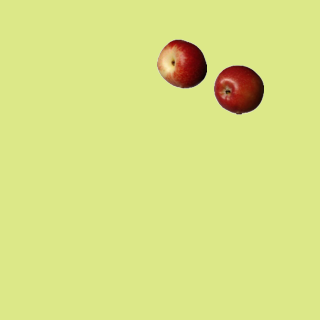Apple Braeburn: (213, 64, 263, 114)
Nectarine: (156, 38, 206, 88)
